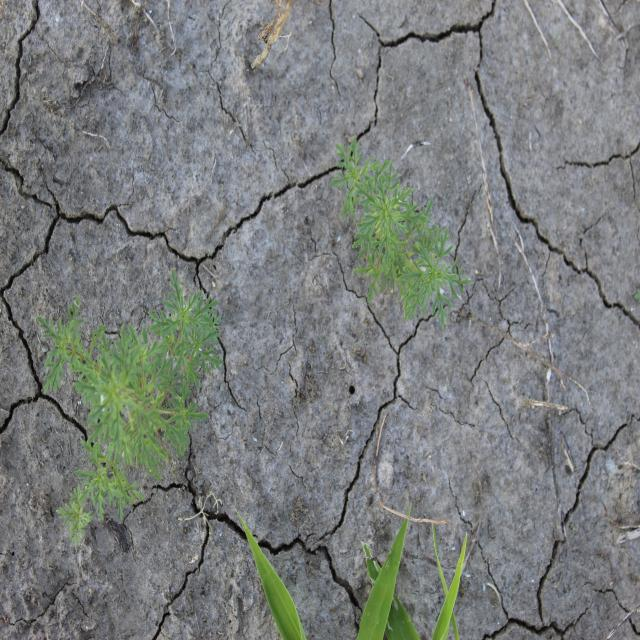Ragweed: (35, 267, 225, 549), (329, 135, 473, 330)
